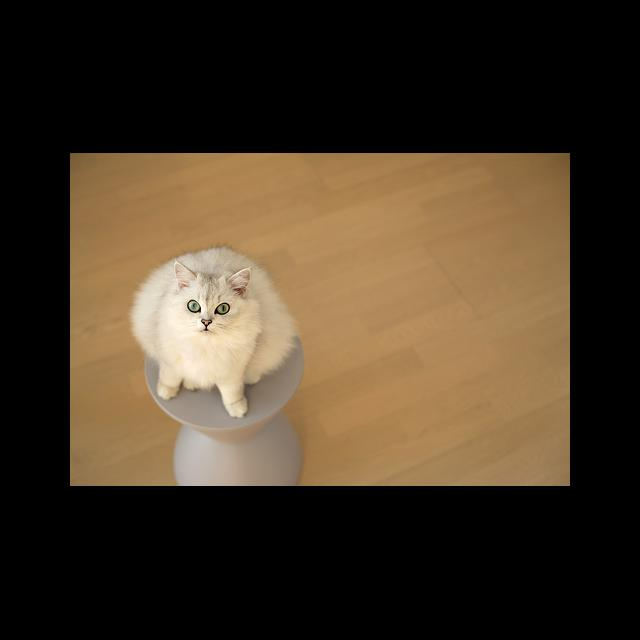animals: (175, 260, 248, 324)
